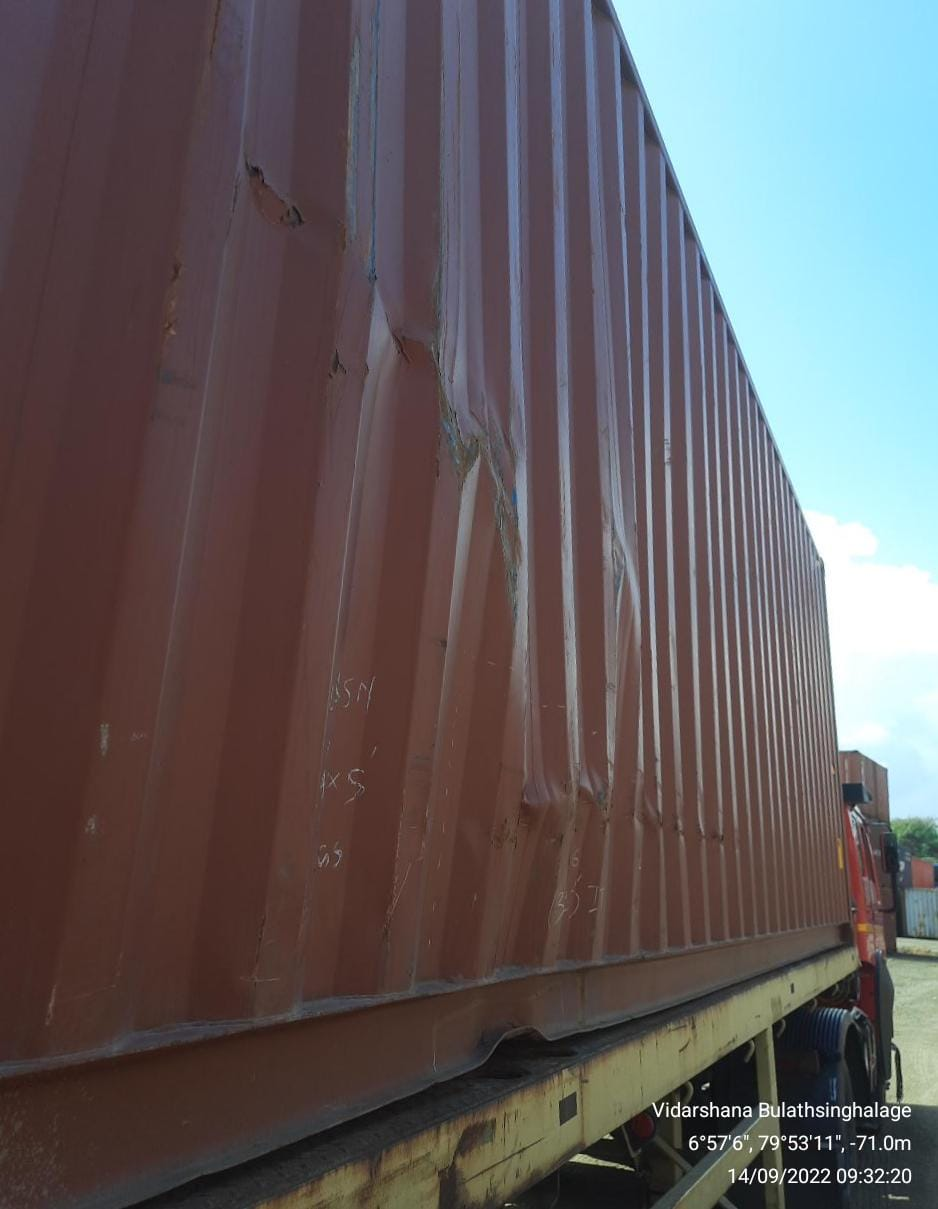dented: (382, 305, 537, 547), (507, 736, 746, 867), (221, 156, 364, 264)
